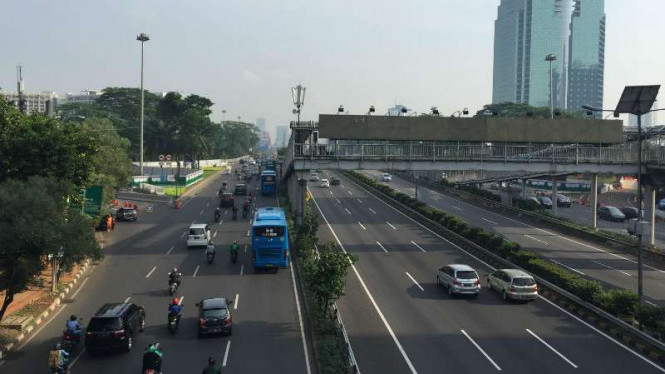car: (87, 301, 145, 350), (252, 204, 291, 273), (485, 268, 536, 307), (435, 263, 482, 298), (196, 298, 233, 337), (186, 224, 210, 247), (597, 206, 624, 225), (620, 205, 644, 223), (259, 170, 276, 195), (115, 207, 138, 224), (220, 192, 235, 208), (538, 195, 552, 211), (556, 194, 570, 208), (235, 183, 246, 196)
motorbike: (141, 344, 164, 373), (166, 298, 184, 335), (48, 344, 70, 374), (64, 315, 81, 348), (165, 269, 182, 297), (202, 354, 222, 374), (230, 240, 239, 266), (206, 241, 216, 264), (243, 199, 250, 218), (214, 206, 221, 223), (232, 204, 239, 220)
